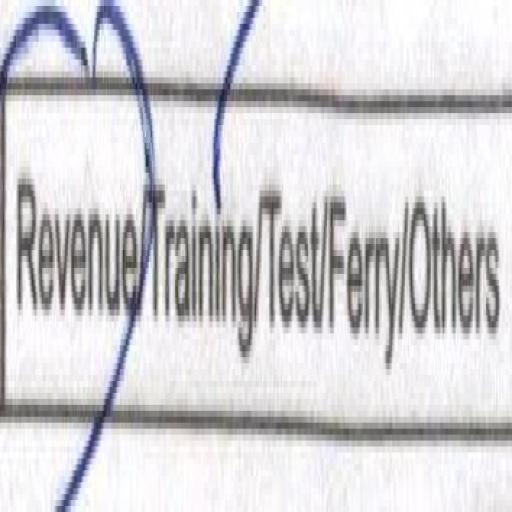check: (0, 0, 141, 512), (145, 0, 255, 512)
